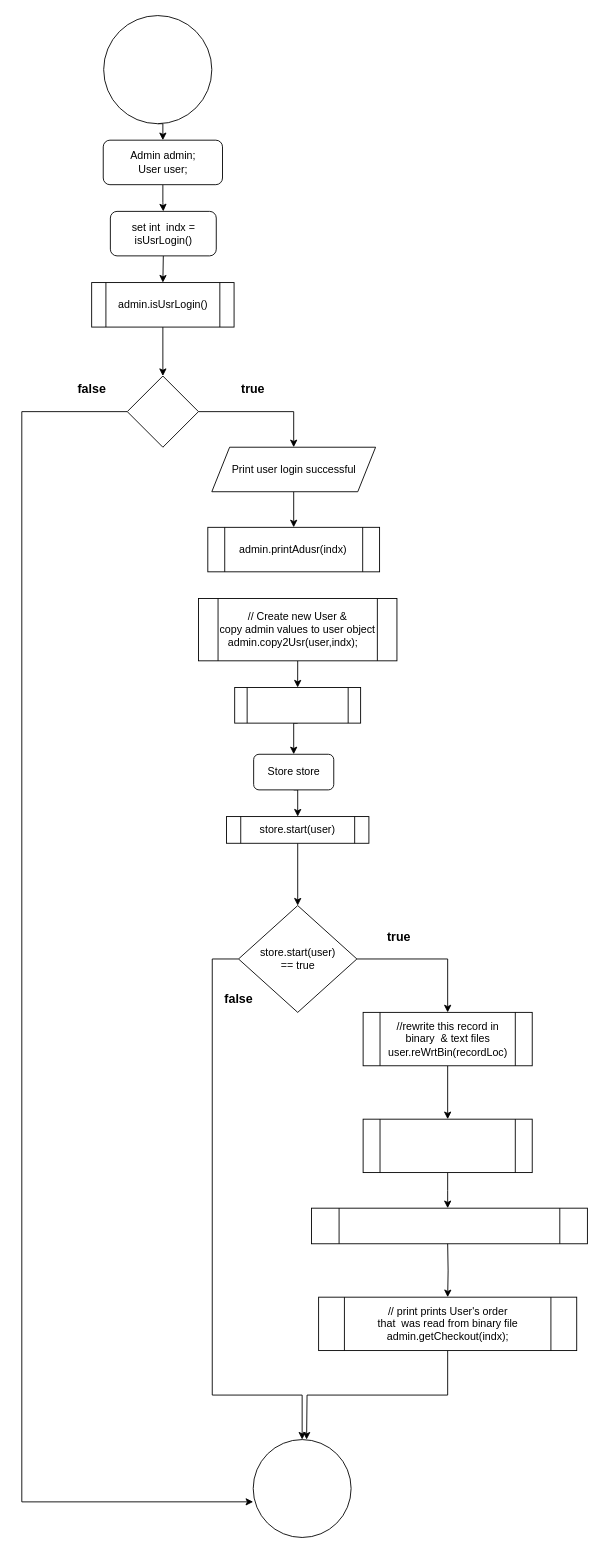
This 603x1553 diagram has some shape labels left out. Here are the shapes that lost their labels. From the top down, the centre of each, then its label:
At (157,69): "Start void getUsrLogin()".
At (162,411): "if indx != -66".
At (297,705): "user.printUsr();".
At (447,1145): "// read binary file & reset usrArr[] admin.readBin_setArray()".
At (449,1225): "admin.printAdUsr(user.getNumRec())".
At (301,1488): "return to main()".
